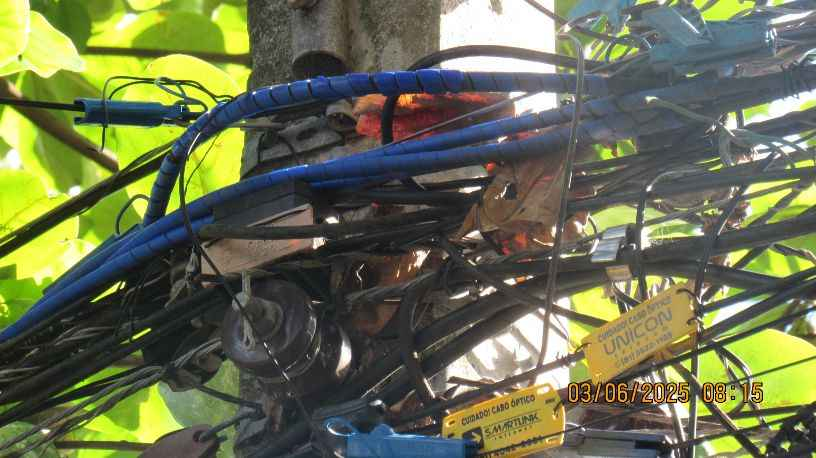drop: (65, 66, 254, 148)
fibra_optica: (264, 57, 776, 160), (576, 272, 725, 383), (443, 360, 569, 458)
